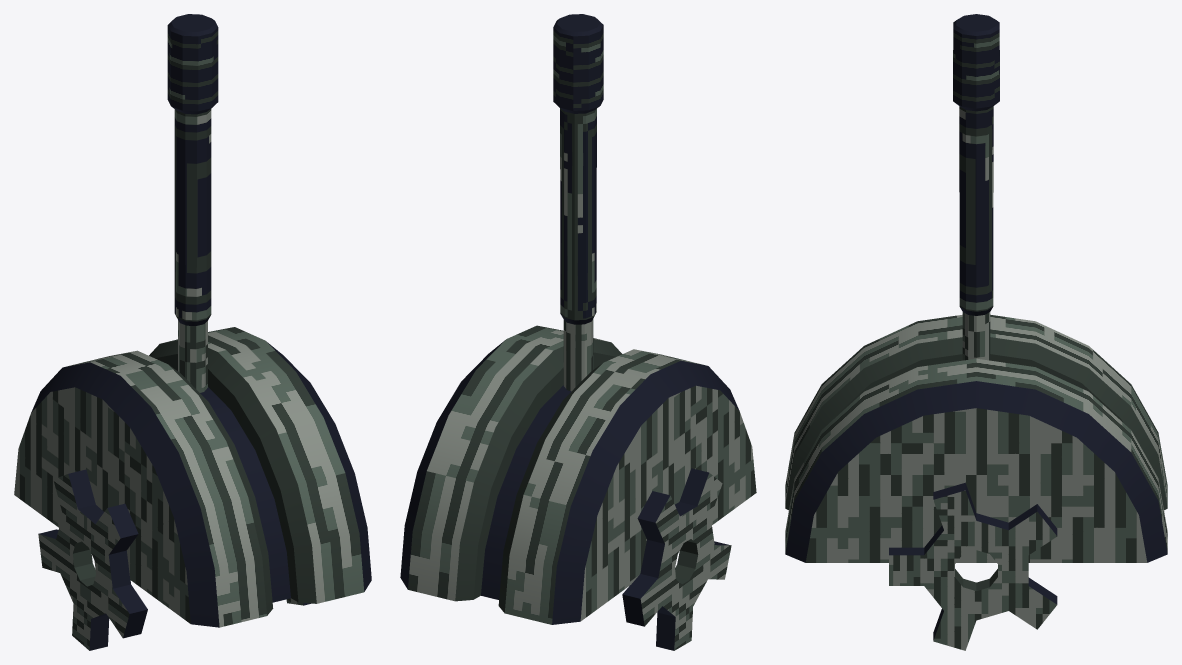
The model's file is SM_Lever.fbx.
3 renders of one model, left to right at view 1: azimuth 30°, elevation 25°; view 2: azimuth 150°, elevation 25°; view 3: azimuth 270°, elevation 25°, orthographic. The views are drawn at different scales.
Visible parts, largest first — view 1: Govde, kol, cark2; view 2: Govde, kol, cark2; view 3: Govde, cark1, kol.
Part boxes in pixels (x1,y1,x2,y2): Govde: (14,327,371,627); kol: (167,14,218,392); cark2: (38,469,147,650); Govde: (400,325,756,624); kol: (553,14,603,391); cark2: (622,468,731,650); Govde: (785,314,1167,562); cark1: (889,482,1057,650); kol: (953,14,999,360).
Size of the model in its own units: 70.37 by 187 by 112.
